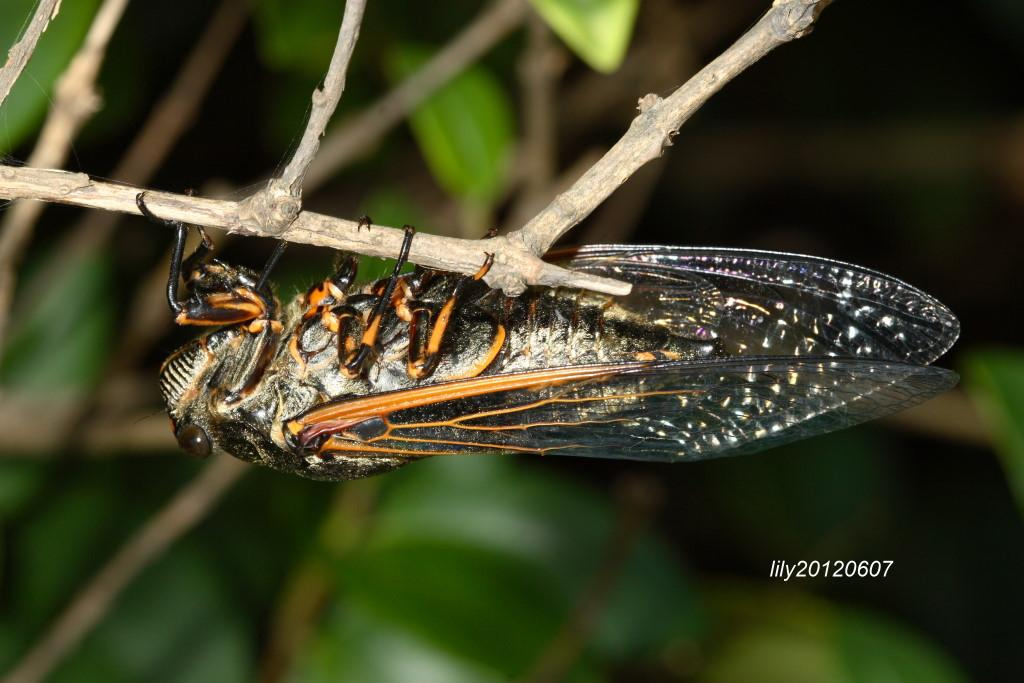chan: (152, 196, 959, 472)
